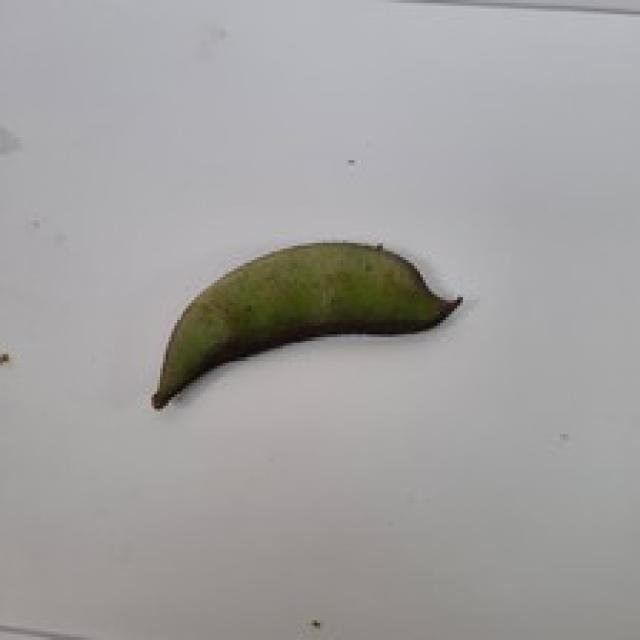Bean: (148, 237, 463, 409)
